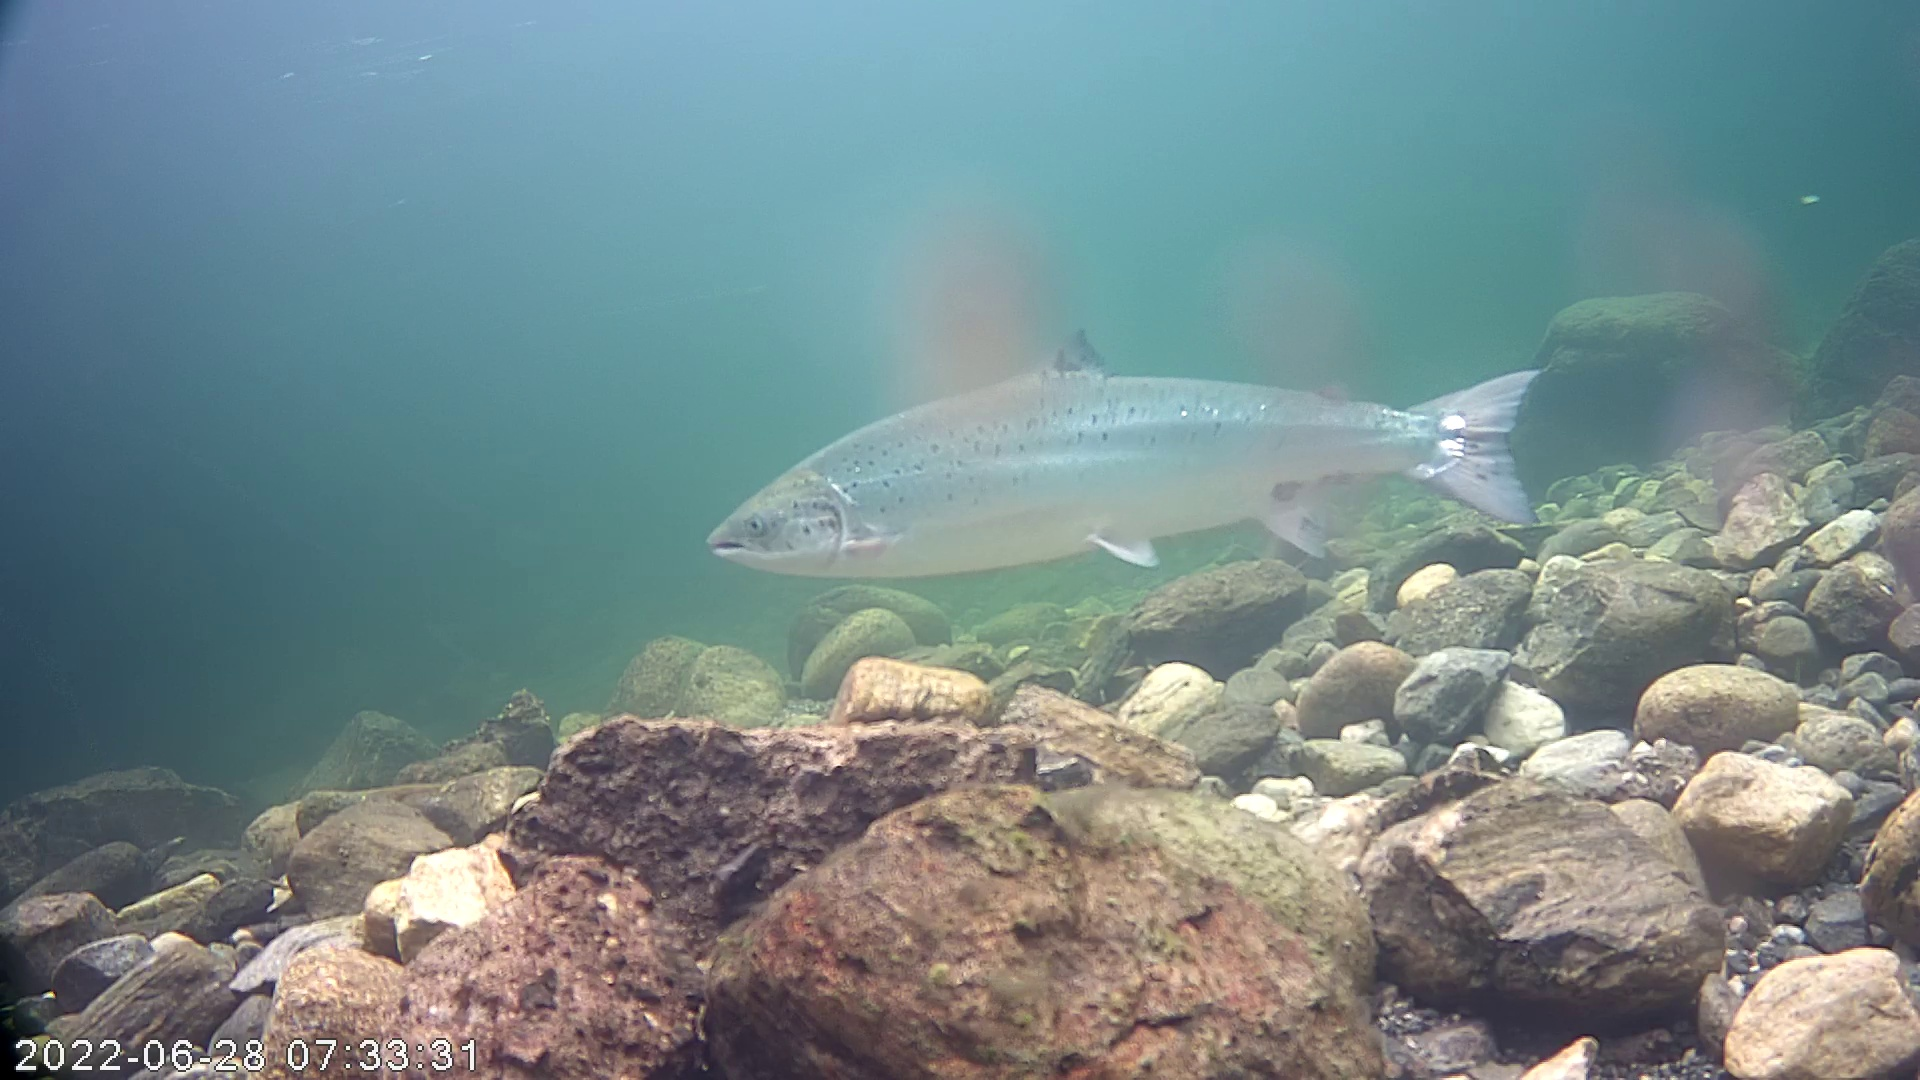salmon: (702, 214, 1600, 621)
